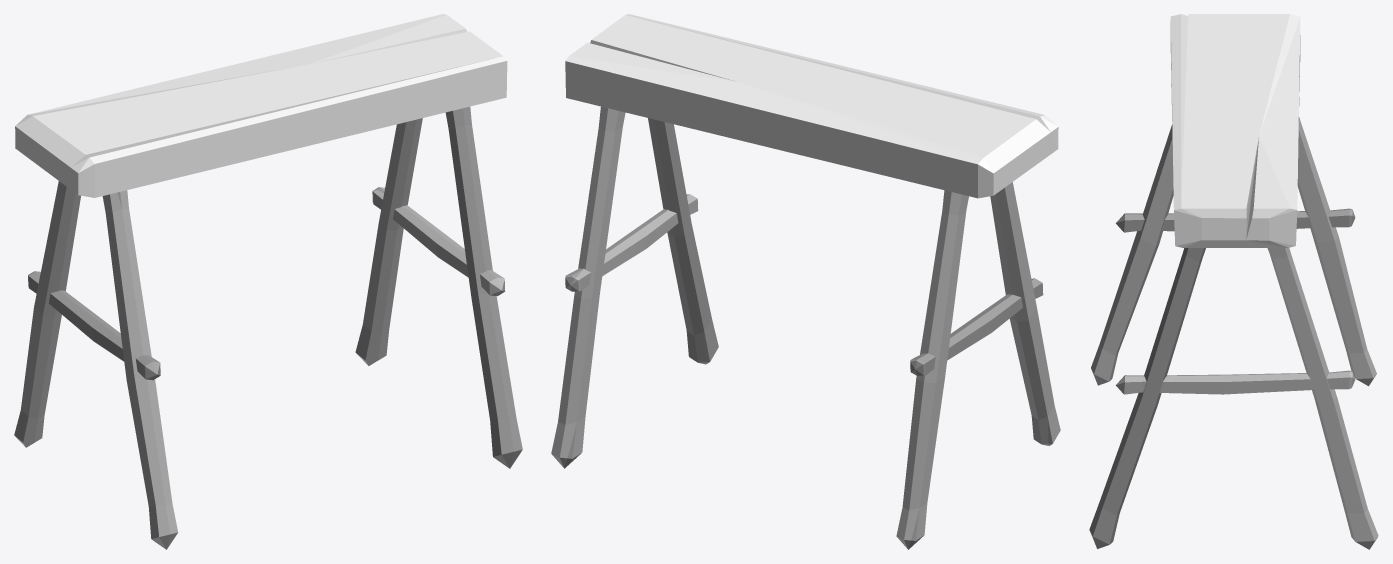
The model's file is PT_Sawhorse_01.fbx.
3 renders of one model, left to right at view 1: azimuth 30°, elevation 25°; view 2: azimuth 150°, elevation 25°; view 3: azimuth 270°, elevation 25°, orthographic. The views are drawn at different scales.
Visible parts, largest first — view 1: PT_Sawhorse_01; view 2: PT_Sawhorse_01; view 3: PT_Sawhorse_01.
Part boxes in pixels (bbox=[...]): PT_Sawhorse_01: bbox=[14, 14, 522, 549]; PT_Sawhorse_01: bbox=[551, 14, 1060, 549]; PT_Sawhorse_01: bbox=[1089, 14, 1378, 549].
Size of the model in its own units: 99.59 by 82.06 by 59.96.
1 material, 1 textured.
